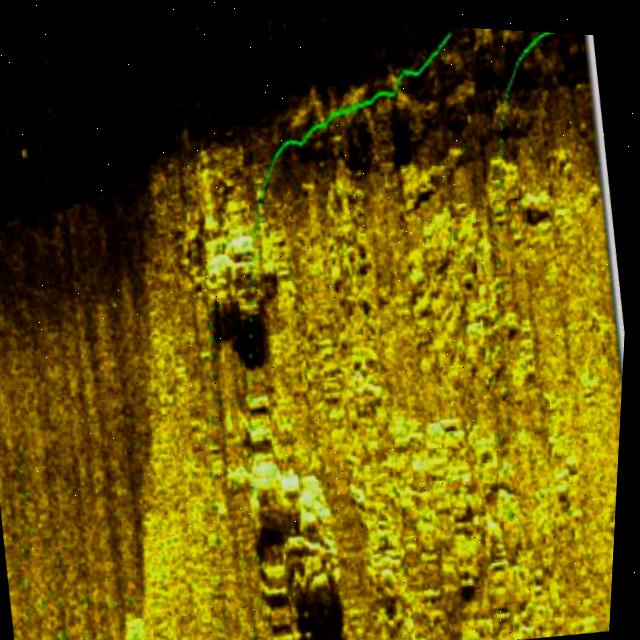bedrock group: (167, 59, 627, 640)
